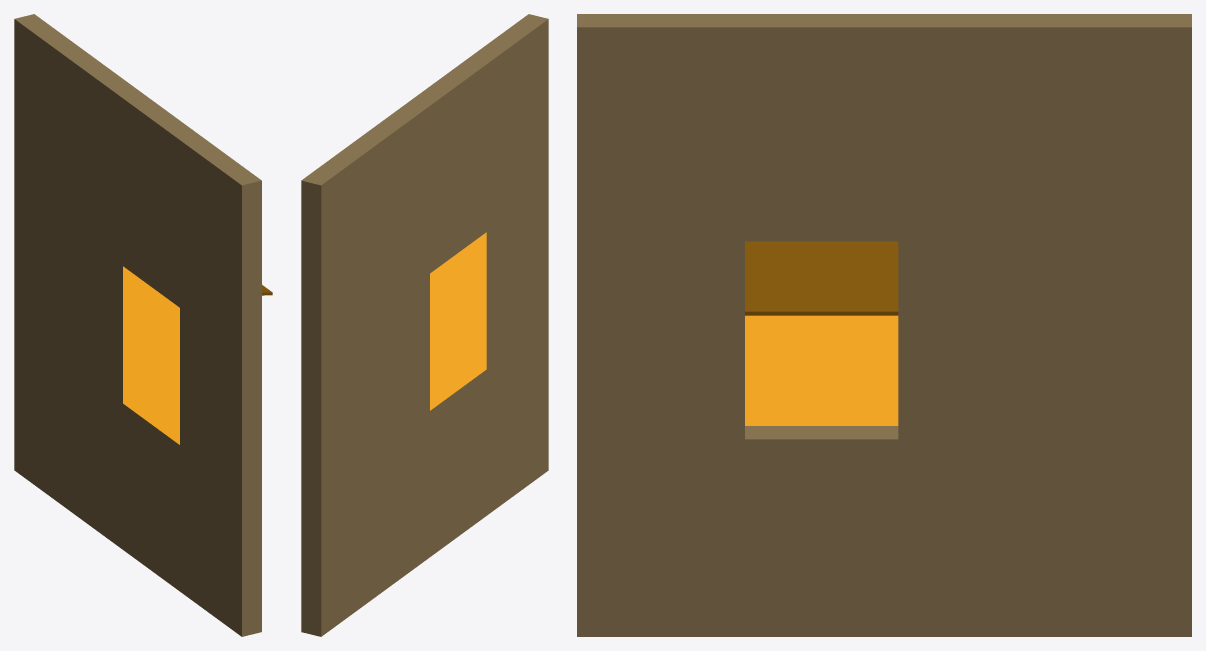
File: Building3.fbx
3 renders of one model, left to right at view 1: azimuth 30°, elevation 25°; view 2: azimuth 150°, elevation 25°; view 3: azimuth 270°, elevation 25°, orthographic. The views are drawn at different scales.
Parts seen in each view (by area): view 1: Plane.008; view 2: Plane.008; view 3: Plane.008.
Part boxes in pixels (x1,y1,x2,y2): Plane.008: (14,14,272,636); Plane.008: (301,14,548,636); Plane.008: (577,14,1191,636).
Bounding box in the file's own units: 55.68 × 259 × 236.
